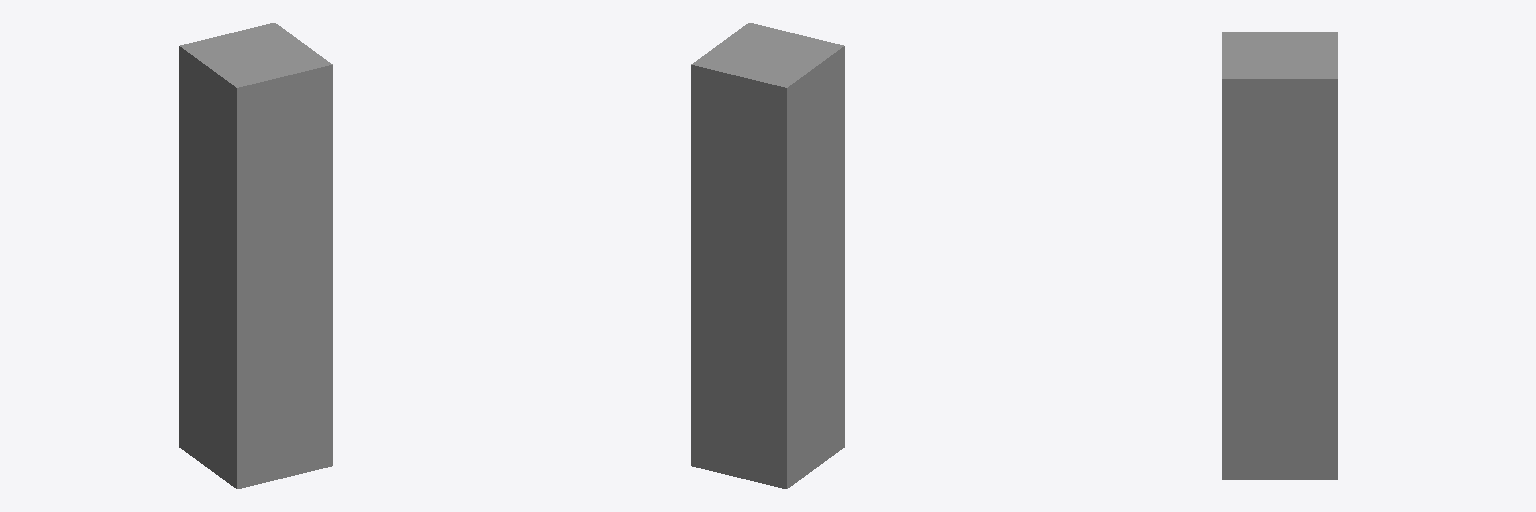
The model's file is building12.obj.
The picture shows the model from 3 angles: view 1: azimuth 30°, elevation 25°; view 2: azimuth 150°, elevation 25°; view 3: azimuth 270°, elevation 25°; orthographic projection.
Parts seen in each view (by area): view 1: SketchUp.002_ID170, SketchUp.003_ID183, SketchUp.001_ID157; view 2: SketchUp.002_ID170, SketchUp.003_ID183, SketchUp.001_ID157; view 3: SketchUp.002_ID170, SketchUp.003_ID183, SketchUp.001_ID157.
Part boxes in pixels (bbox=[...]): SketchUp.002_ID170: bbox=[179, 46, 332, 438]; SketchUp.003_ID183: bbox=[179, 397, 332, 488]; SketchUp.001_ID157: bbox=[180, 23, 332, 87]; SketchUp.002_ID170: bbox=[691, 46, 844, 438]; SketchUp.003_ID183: bbox=[691, 397, 844, 488]; SketchUp.001_ID157: bbox=[691, 23, 843, 87]; SketchUp.002_ID170: bbox=[1222, 79, 1337, 429]; SketchUp.003_ID183: bbox=[1222, 430, 1337, 479]; SketchUp.001_ID157: bbox=[1222, 32, 1337, 78].
Size of the model in its own units: 1.95 by 7.83 by 2.04.